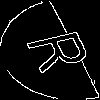R: (25, 25, 100, 74)
